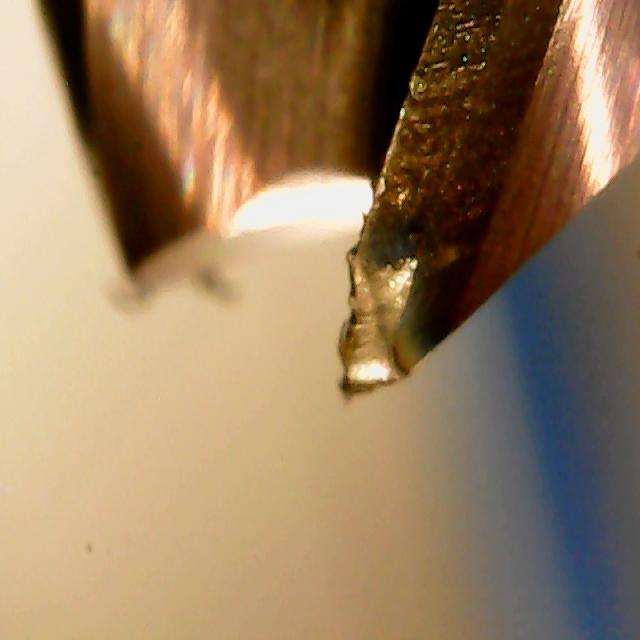Tool-wear-class-2: (331, 51, 463, 406)
